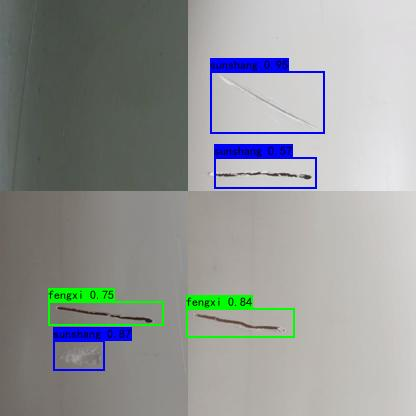fengxi: (55, 304, 158, 328), (194, 309, 285, 334), (206, 168, 315, 184)
sunshang: (220, 71, 317, 134), (63, 341, 111, 371)
